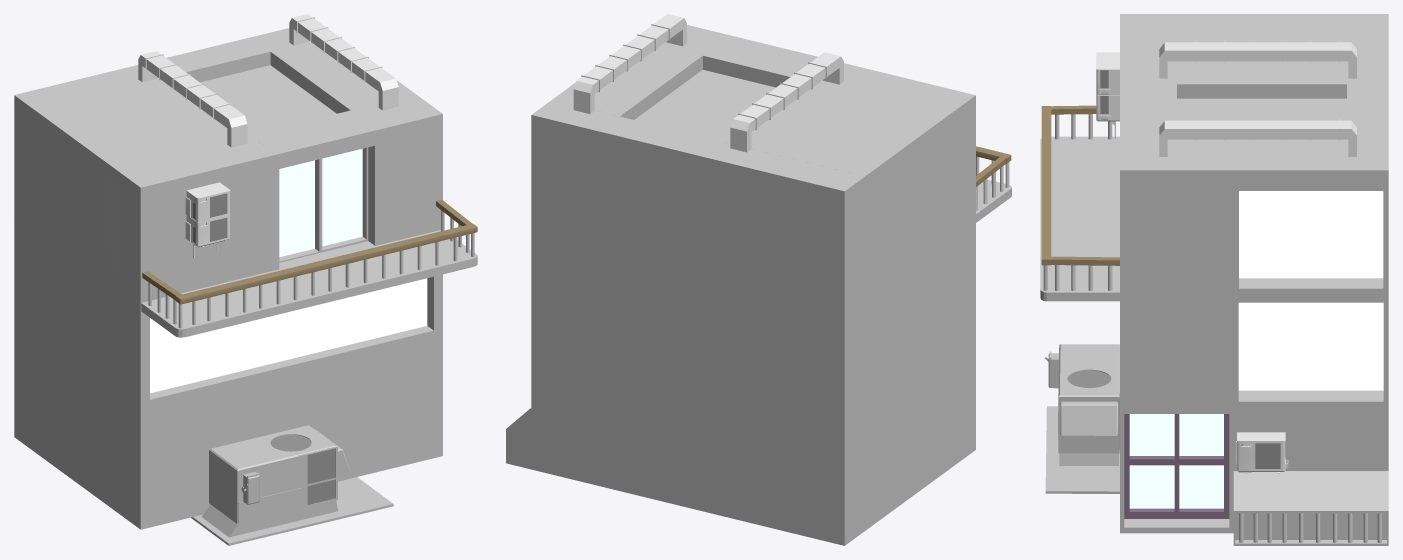
Rendered from Building_TallNoDoor.fbx.
The picture shows the model from 3 angles, left to right: view 1: azimuth 30°, elevation 25°; view 2: azimuth 150°, elevation 25°; view 3: azimuth 270°, elevation 25°; orthographic projection. The views are drawn at different scales.
Visible parts, largest first — view 1: Cube, Rooftop Vents.004, Cube.001, Ext_Vent 01.001, Ext_Vent 01, HVAC Double; view 2: Cube, Ext_Vent 01, Ext_Vent 01.001, Cube.001; view 3: Cube, Rooftop Vents.004, Ext_Vent 01, Ext_Vent 01.001, Cube.001, HVAC Single, HVAC Double.
Boxes of the visible parts, left/top/right/bottom form: Cube: left=14, top=28, right=477, bottom=529; Rooftop Vents.004: left=191, top=425, right=393, bottom=545; Cube.001: left=142, top=199, right=477, bottom=304; Ext_Vent 01.001: left=289, top=14, right=398, bottom=110; Ext_Vent 01: left=138, top=51, right=247, bottom=147; HVAC Double: left=185, top=182, right=230, bottom=257; Cube: left=506, top=25, right=1011, bottom=545; Ext_Vent 01: left=730, top=52, right=843, bottom=152; Ext_Vent 01.001: left=573, top=14, right=686, bottom=113; Cube.001: left=976, top=146, right=1011, bottom=186; Cube: left=1040, top=14, right=1388, bottom=545; Rooftop Vents.004: left=1044, top=344, right=1119, bottom=493; Ext_Vent 01: left=1159, top=41, right=1356, bottom=78; Ext_Vent 01.001: left=1159, top=119, right=1356, bottom=156; Cube.001: left=1041, top=105, right=1119, bottom=265; HVAC Single: left=1236, top=432, right=1288, bottom=473; HVAC Double: left=1096, top=52, right=1119, bottom=138.
Bounding box in the file's own units: 400 × 436 × 348.
